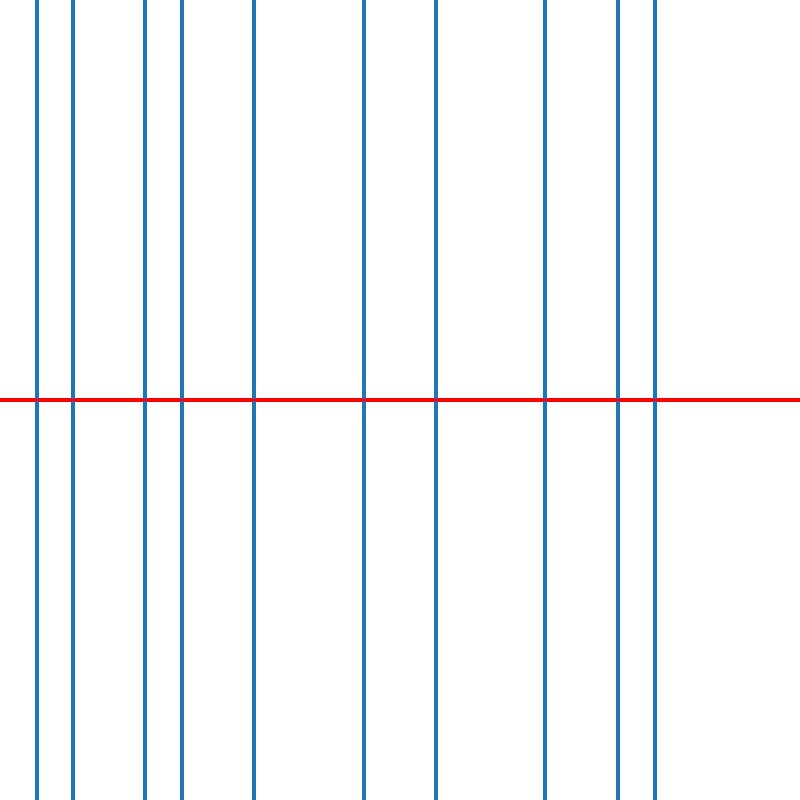root: (250, 396, 258, 404), (141, 396, 149, 404), (650, 396, 658, 404), (432, 396, 440, 404), (541, 396, 549, 404), (32, 396, 40, 404), (69, 396, 76, 404), (178, 396, 185, 404), (614, 396, 621, 404), (360, 396, 367, 404)
